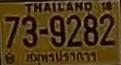2: (67, 14, 81, 46), (100, 14, 114, 44)
3: (22, 16, 36, 46)
7: (4, 15, 19, 48)
8: (83, 14, 97, 45)
9: (49, 15, 64, 46)
SPK: (24, 49, 97, 65)
